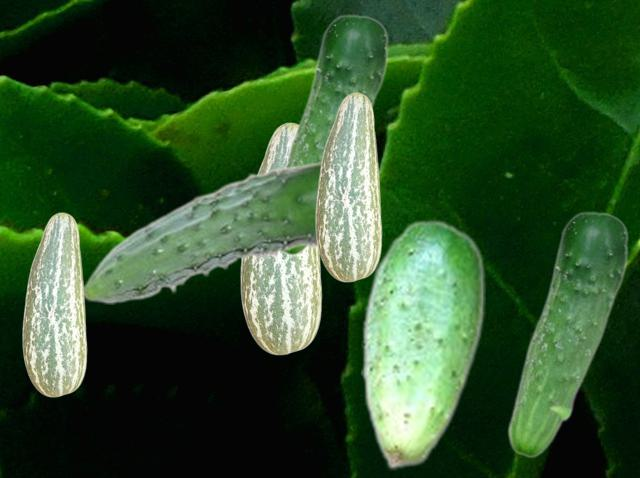cucumber: (81, 159, 320, 303), (361, 218, 484, 469), (506, 211, 628, 457), (280, 14, 388, 255), (240, 122, 321, 354), (315, 92, 381, 281), (22, 212, 86, 396)
